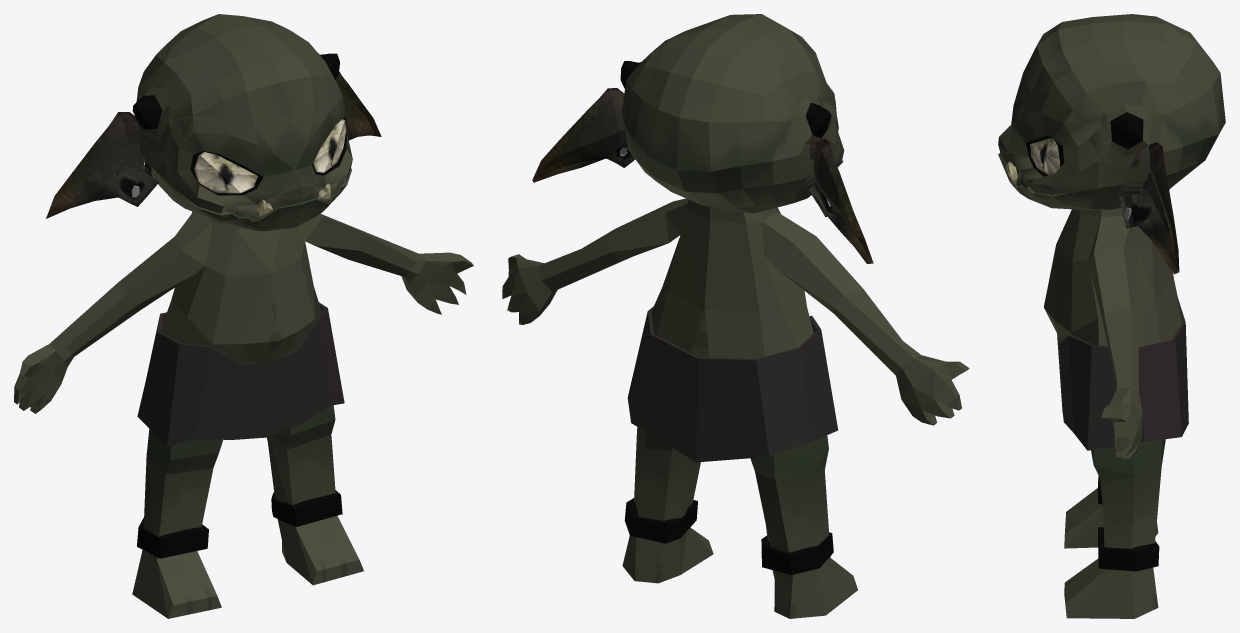
Rendered from goblin COMPLETO.fbx.
The picture shows the model from 3 angles, left to right: view 1: azimuth 30°, elevation 25°; view 2: azimuth 150°, elevation 25°; view 3: azimuth 270°, elevation 25°; orthographic projection.
Parts seen in each view (by area): view 1: Cube.019, Cube.020, Cube.018, Cube.017, Cube.013, Cube.012, Cube.015, Cube.014; view 2: Cube.019, Cube.020, Cube.018, Cube.017, Cube.012, Cube.014; view 3: Cube.019, Cube.020, Cube.018, Cube.017, Cube.013, Cube.012, Cube.014, Cube.015.
Boxes of the visible parts, x1,y1,x2,y2 form: Cube.019: (14,182,473,618); Cube.020: (136,14,352,231); Cube.018: (137,302,344,446); Cube.017: (46,71,381,218); Cube.013: (164,134,352,227); Cube.012: (137,490,342,558); Cube.015: (195,119,345,192); Cube.014: (132,53,347,195); Cube.019: (502,198,969,618); Cube.020: (622,14,843,213); Cube.018: (627,306,838,462); Cube.017: (532,88,873,263); Cube.012: (624,498,833,574); Cube.014: (620,61,838,137); Cube.019: (1044,208,1182,618); Cube.020: (998,14,1225,210); Cube.018: (1057,298,1188,450); Cube.017: (1119,142,1179,274); Cube.013: (998,144,1098,209); Cube.012: (1098,476,1159,571); Cube.014: (1025,112,1143,176); Cube.015: (1030,138,1060,175).
Bounding box in the file's own units: 149 × 173 × 64.71.
2 materials, 1 textured.
